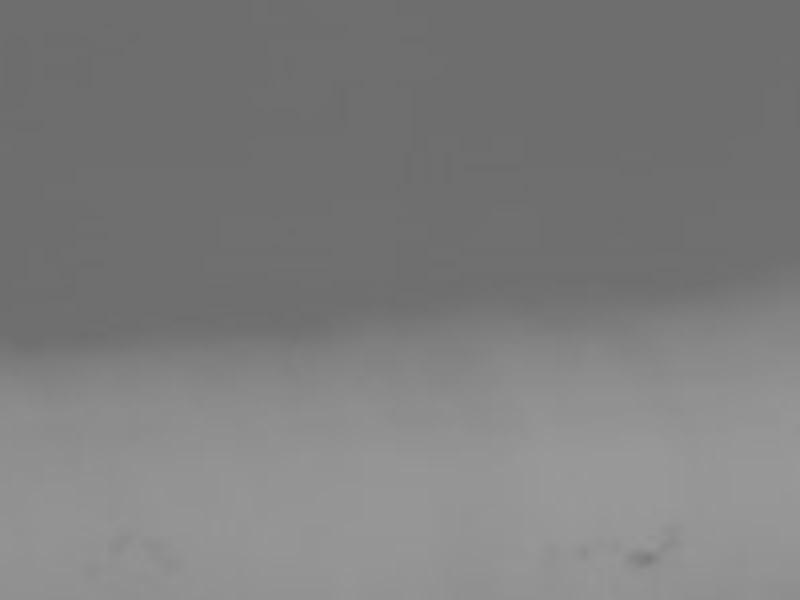defect: (638, 548, 658, 568)
